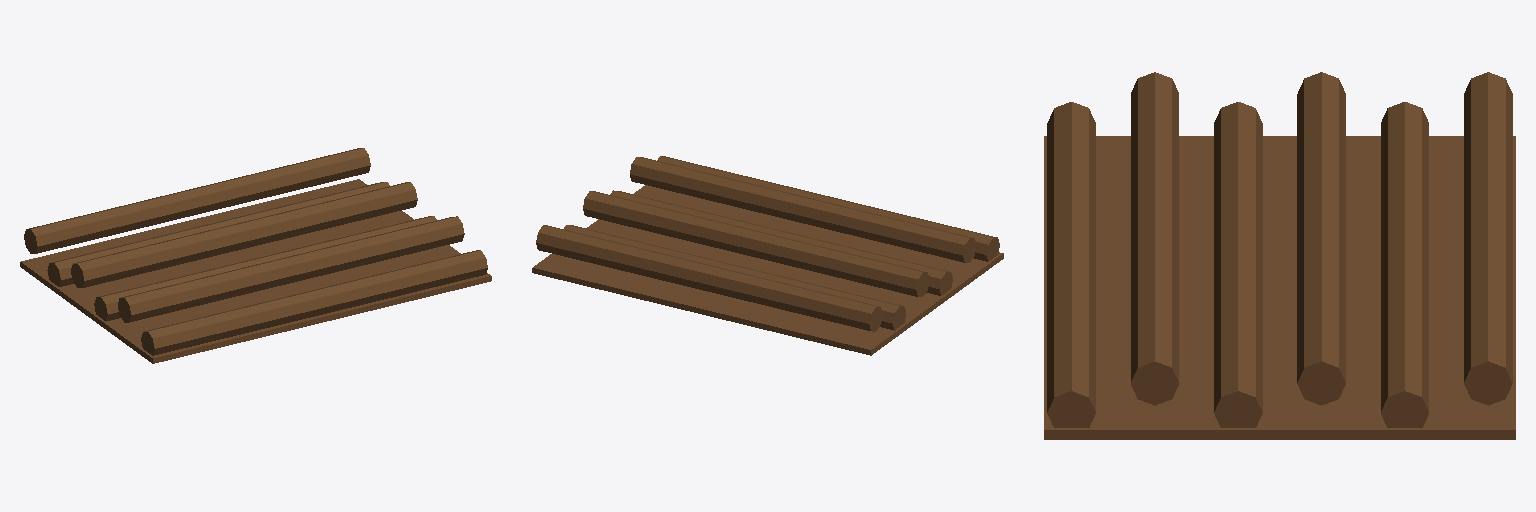
URDF robot description (nova_environment_object_0302):
<?xml version="1.0" encoding="utf-8"?>
<!-- Nova movable environment body for the bundled PyBullet launcher. SI metres/kg/radians. Loaded at its body origin; hinge/slider bodies use a fixed world_anchor base with one passive joint. Inertia is about COM. -->
<robot name="nova_environment_object_0302">
  <link name="body">
    <inertial>
      <origin xyz="0 0 0.008" rpy="0 0 0" />
      <mass value="0.024" />
      <inertia ixx="1.76862222e-05" iyy="3.7504e-05" izz="5.41662222e-05" ixy="0" ixz="0" iyz="0" />
    </inertial>
    <visual>
      <origin xyz="0 0 0" rpy="0 0 0" />
      <geometry>
        <mesh filename="object_0302.obj" />
      </geometry>
      <material name="surface">
        <color rgba="0.48 0.35 0.23 1" />
      </material>
    </visual>
    <collision>
      <origin xyz="0 0 0" rpy="0 0 0" />
      <geometry>
        <mesh filename="object_0302_collision_00.obj" />
      </geometry>
    </collision>
  </link>
</robot>

--- Render facts (derived) ---
Views: 3 orthographic renders of the robot side by side, from view 1: azimuth 30°, elevation 25°; view 2: azimuth 150°, elevation 25°; view 3: azimuth 270°, elevation 25°.
Robot: nova_environment_object_0302 — 1 links, 0 joints (none); root link body; default pose: every joint at zero.
Links seen in each view (by area): view 1: body; view 2: body; view 3: body.
Link boxes in pixels (box(x1,y1,x2,y2)): body: box(20, 148, 491, 363); body: box(532, 156, 1003, 355); body: box(1044, 72, 1515, 439).
Size in the robot's own frame: 0.128 by 0.0867 by 0.0155 metres.
1 mesh visuals loaded from 1 distinct referenced files (1 OBJ).
